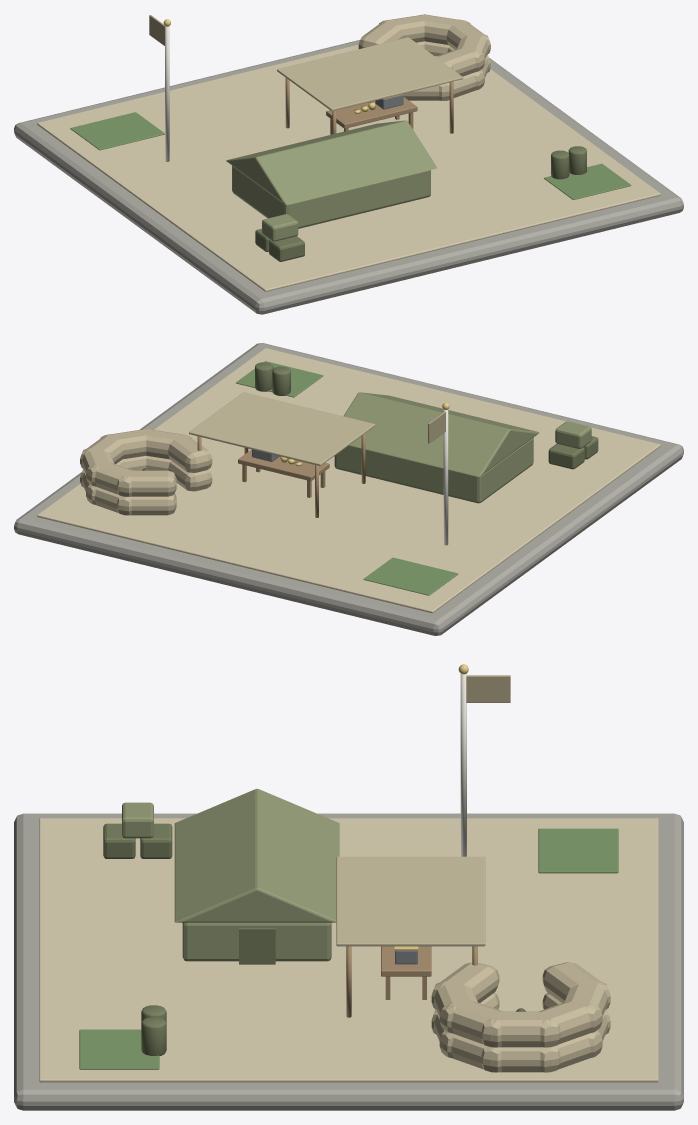
Rendered from treasury_1.glb.
3 views of the same model, one above another, from view 1: azimuth 30°, elevation 25°; view 2: azimuth 150°, elevation 25°; view 3: azimuth 270°, elevation 25° (orthographic). The views are drawn at different scales.
Parts seen in each view (by area): view 1: Cube.001, Cube, prism, Cube.006, Cube.004, Cube.002, Cube.003, Cube.007, Cube.032, Cube.025, Cube.017, Cube.021 (+9 smaller); view 2: Cube.001, Cube, prism, Cube.006, Cube.004, Cube.002, Cube.021, Cube.023, Cube.007, Cube.020, Cube.019, Cube.003 (+11 smaller); view 3: Cube.001, Cube, prism, Cube.006, Cube.004, Cube.002, Cube.003, Cube.015, Cube.017, Cube.027, Cube.014, Cube.023 (+13 smaller).
Part boxes in pixels (<box>): Cube.001: <box>37,44,660,291</box>; Cube: <box>14,40,683,314</box>; prism: <box>226,120,436,204</box>; Cube.006: <box>277,37,463,110</box>; Cube.004: <box>232,165,430,228</box>; Cube.002: <box>70,112,164,150</box>; Cube.003: <box>544,163,631,199</box>; Cube.007: <box>326,97,417,128</box>; Cube.032: <box>262,214,298,241</box>; Cube.025: <box>436,47,484,76</box>; Cube.017: <box>418,14,470,44</box>; Cube.021: <box>358,19,402,48</box>; Cube.001: <box>37,348,660,613</box>; Cube: <box>14,343,683,635</box>; prism: <box>343,392,539,476</box>; Cube.006: <box>189,392,375,465</box>; Cube.004: <box>334,437,533,503</box>; Cube.002: <box>363,557,458,595</box>; Cube.021: <box>117,470,176,496</box>; Cube.023: <box>168,434,212,472</box>; Cube.007: <box>238,449,329,481</box>; Cube.020: <box>117,493,176,515</box>; Cube.019: <box>86,462,132,496</box>; Cube.003: <box>236,361,323,397</box>; Cube.001: <box>39,818,658,1082</box>; Cube: <box>14,813,683,1110</box>; prism: <box>174,788,339,922</box>; Cube.006: <box>336,856,485,946</box>; Cube.004: <box>182,922,331,961</box>; Cube.002: <box>538,828,618,873</box>; Cube.003: <box>79,1029,159,1069</box>; Cube.015: <box>481,1011,560,1047</box>; Cube.017: <box>534,998,602,1047</box>; Cube.027: <box>439,999,507,1047</box>; Cube.014: <box>481,1046,560,1072</box>; Cube.023: <box>431,962,499,1009</box>.
Size of the model in its own units: 2.92 by 1.04 by 2.92.
